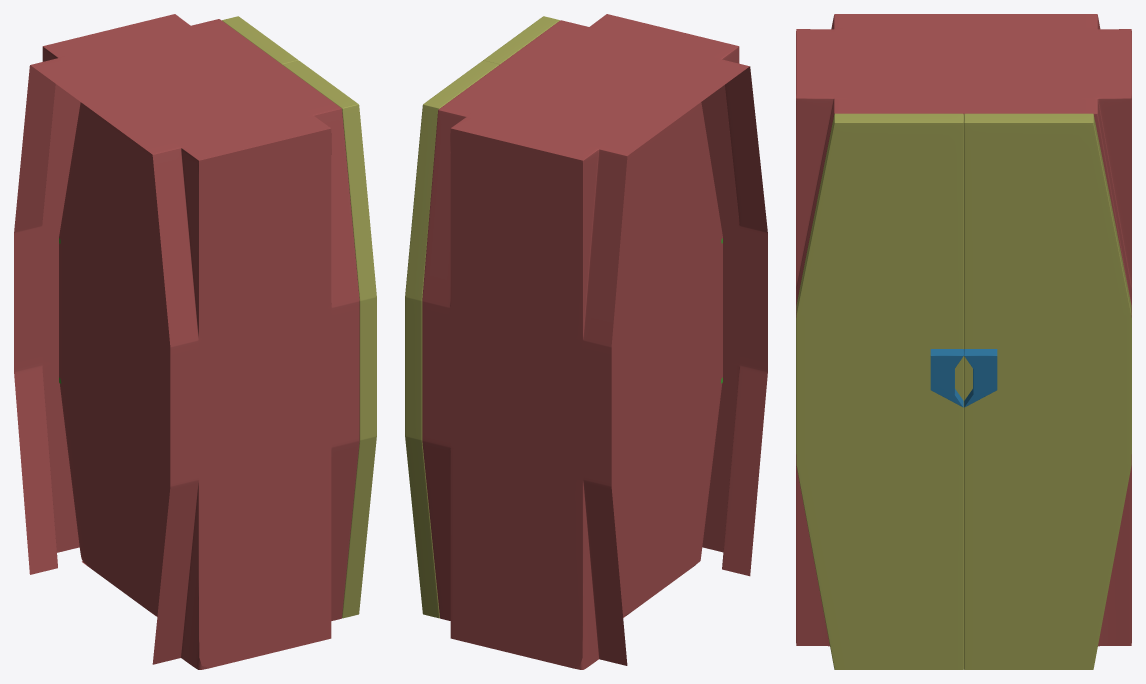
File: Aufbewahrungsschrank_2_high.fbx
3 views of the same model, side by side, from view 1: azimuth 30°, elevation 25°; view 2: azimuth 150°, elevation 25°; view 3: azimuth 270°, elevation 25° (orthographic). The views are drawn at different scales.
Parts seen in each view (by area): view 1: Aufbewahrungsschrank_2_high; view 2: Aufbewahrungsschrank_2_high; view 3: Aufbewahrungsschrank_2_high.
Part boxes in pixels (<box>): Aufbewahrungsschrank_2_high: <box>14,14,376,669</box>; Aufbewahrungsschrank_2_high: <box>405,14,767,669</box>; Aufbewahrungsschrank_2_high: <box>796,14,1131,669</box>.
Bounding box in the file's own units: 0.8131 × 1.8 × 1.
